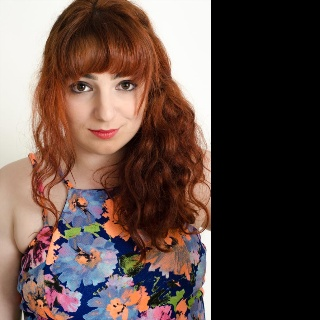without_mask: (66, 72, 145, 153)
